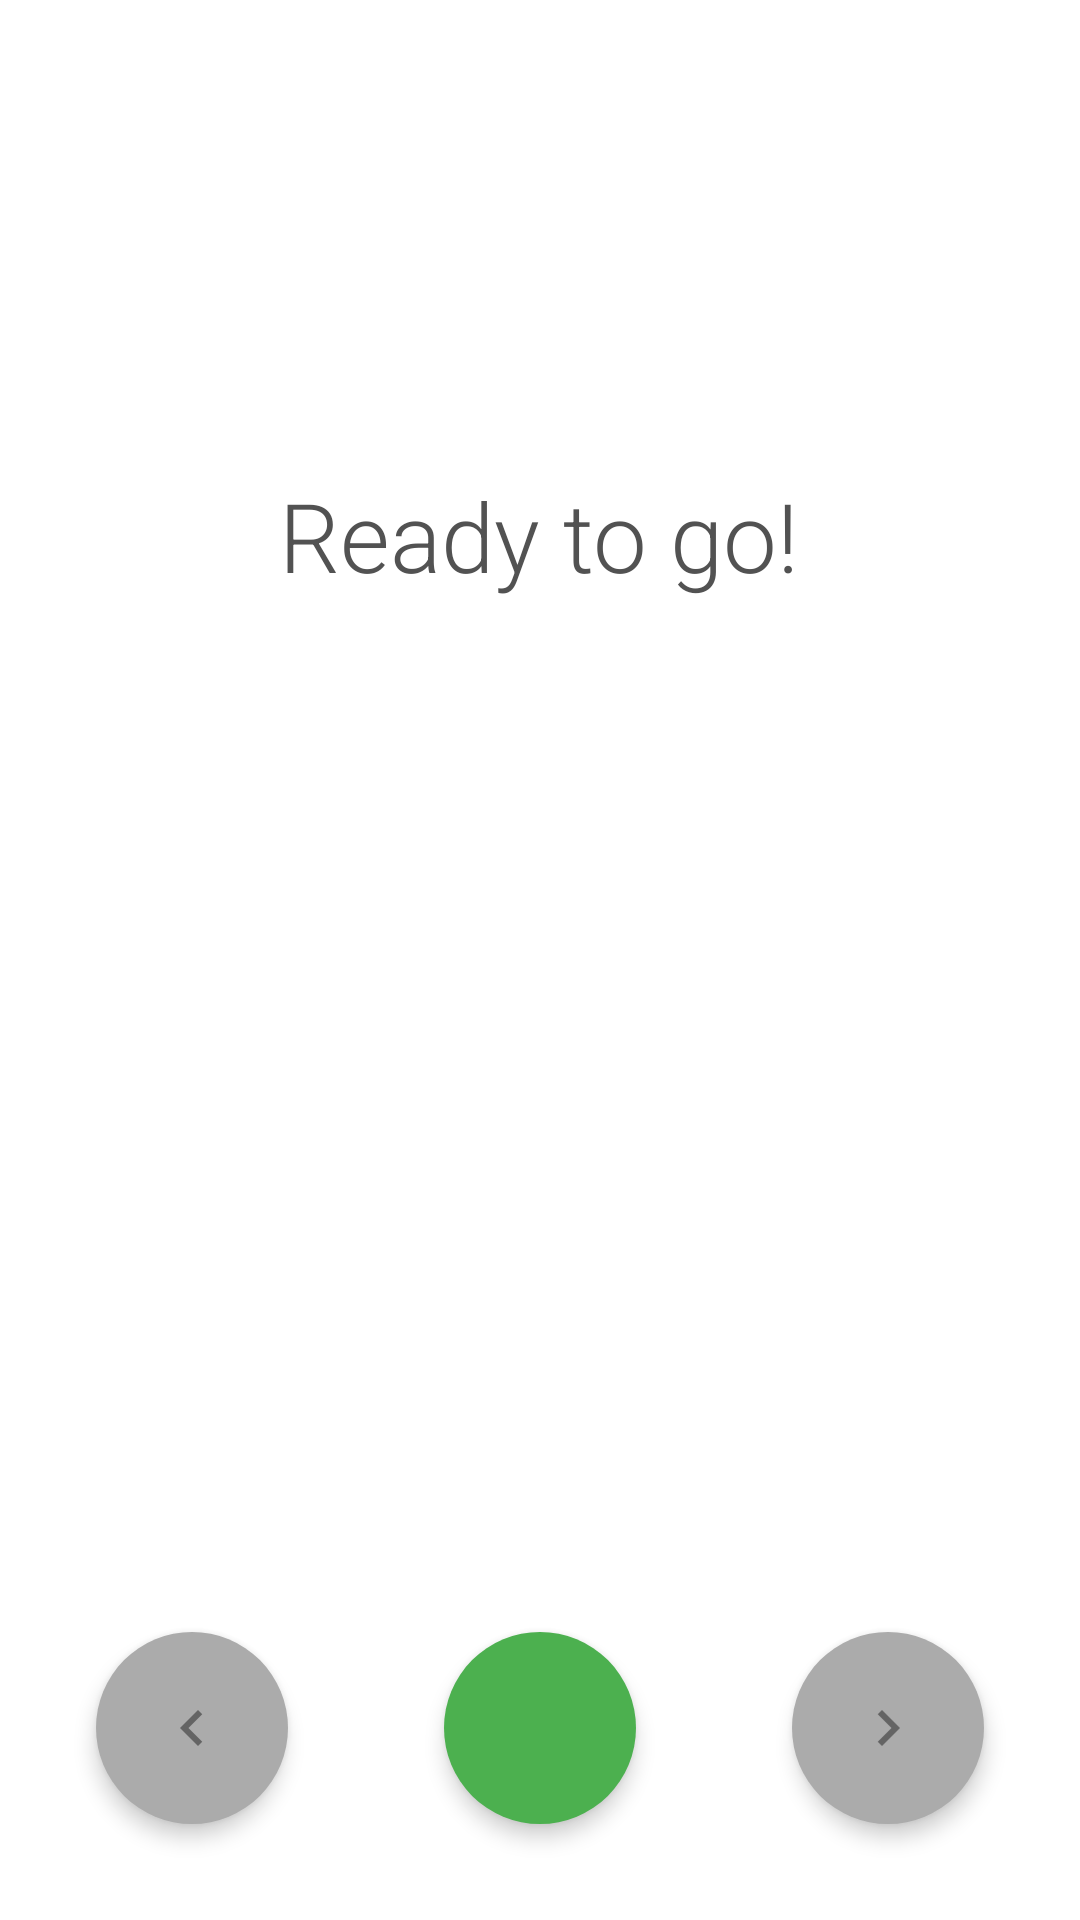

Where icons sit on this 1080*1920 app screen, as (x1, y1, x2, y2):
Decrement: (96, 1632, 288, 1824)
Increment: (792, 1632, 984, 1824)
